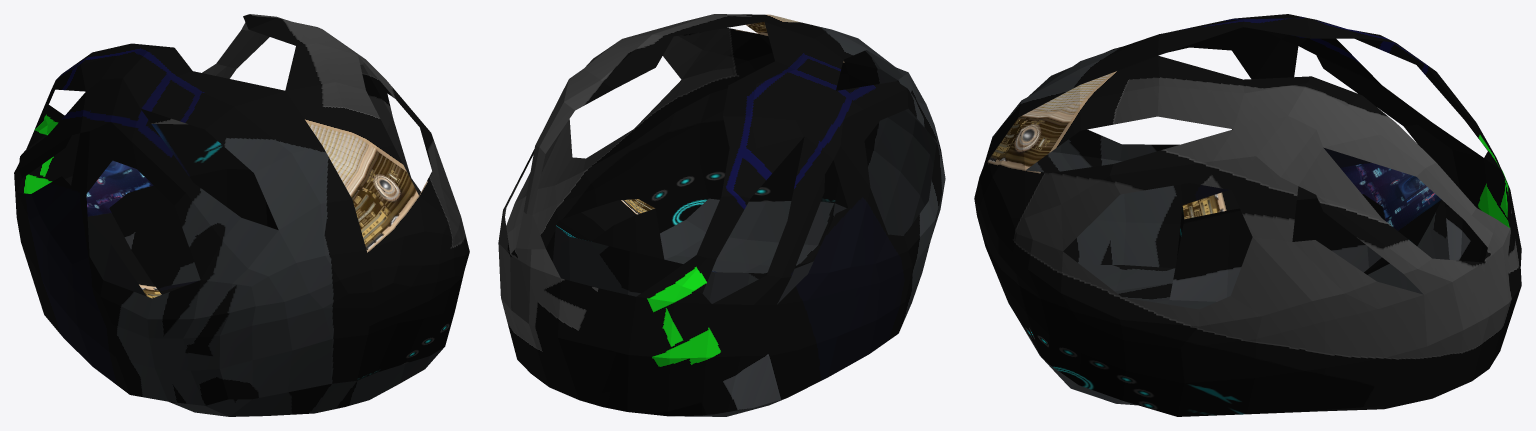
The model's file is cockpitBeta V2.1.fbx.
3 renders of one model, left to right at view 1: azimuth 30°, elevation 25°; view 2: azimuth 150°, elevation 25°; view 3: azimuth 270°, elevation 25°, orthographic. The views are drawn at different scales.
Visible parts, largest first — view 1: top.001; view 2: top.001; view 3: top.001.
Part boxes in pixels (<box>): top.001: <box>14,14,469,416</box>; top.001: <box>498,14,945,416</box>; top.001: <box>974,14,1521,416</box>.
Size of the model in its own units: 285 by 239 by 391.
